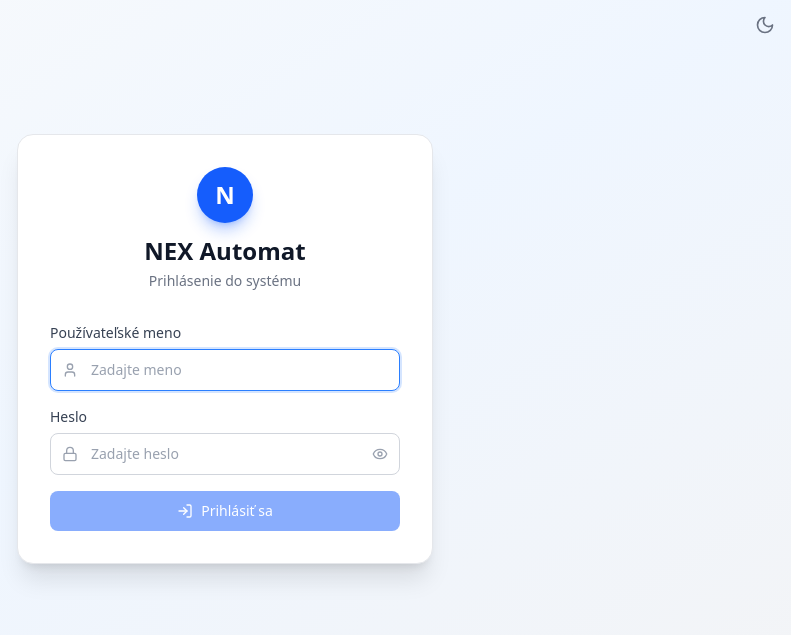
it: LoginScreen › shows error on 401 (invalid credentials)
Type "admin" into the field with test id "username" at (225,370), box top-left (50, 349), bottom-right (400, 391)
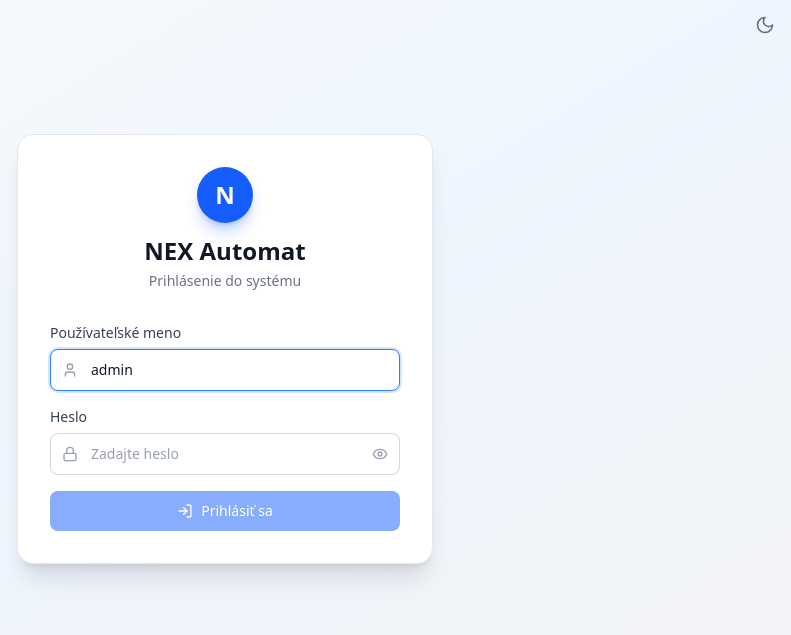
Type "wrong" into the password field with test id "password" at (225,454), box top-left (50, 433), bottom-right (400, 475)
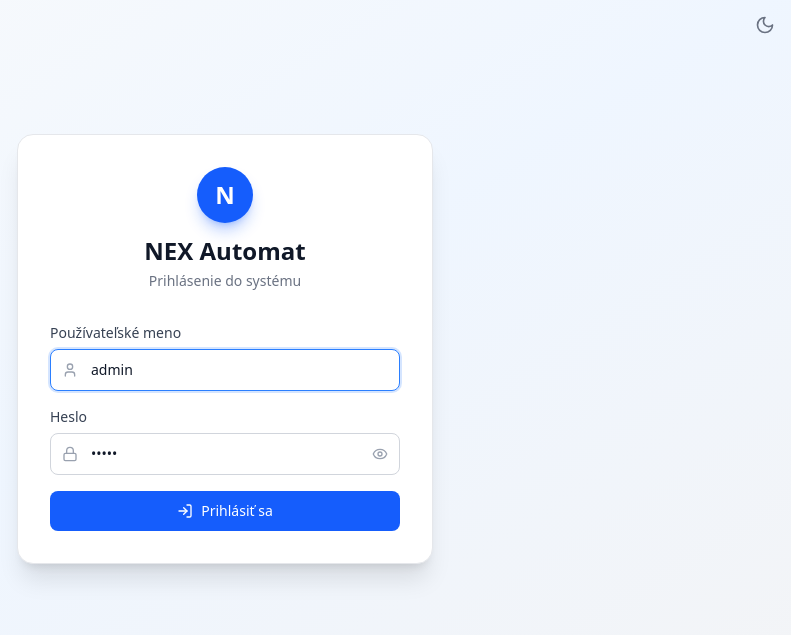
Click the button with test id "login-button" at (225,511), box top-left (50, 491), bottom-right (400, 531)
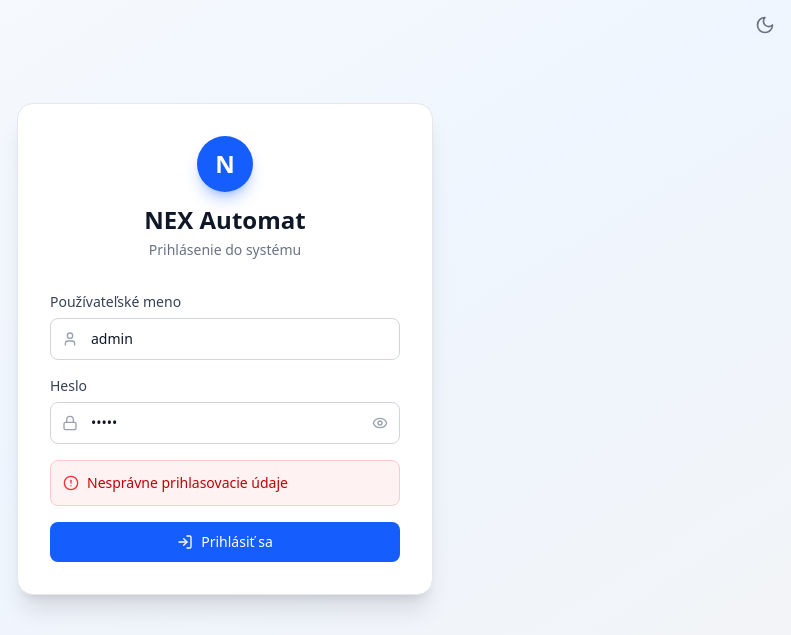
Expected: the text "Nesprávne prihlasovacie údaje" is shown, top-left (87, 473), bottom-right (288, 493)
